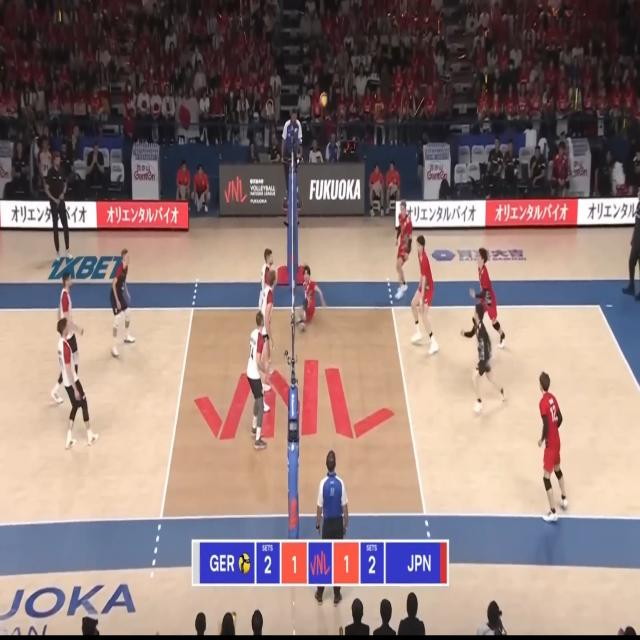ball: (320, 91, 328, 107)
